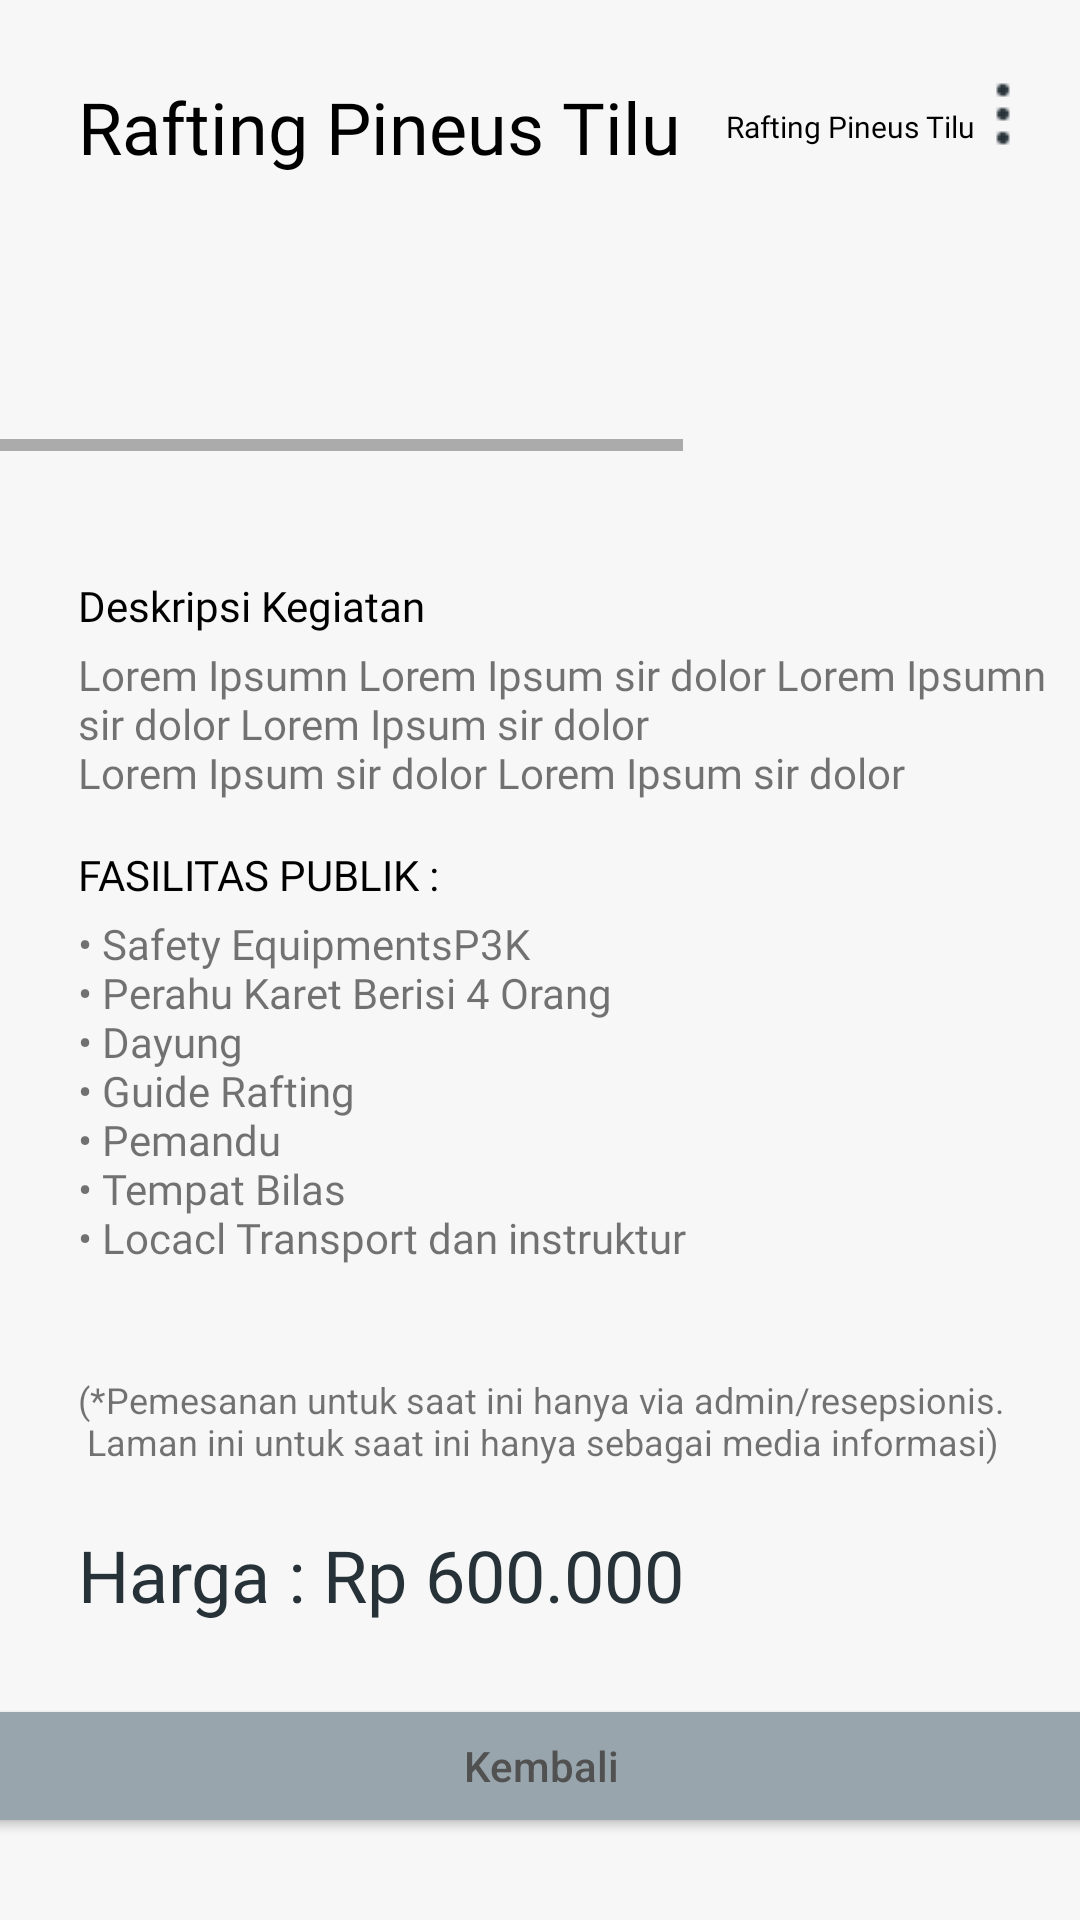

Named icons in this screenshot (1080px×1920px) and their centers, (x=x, y=y):
menu: (x=1003, y=114)
